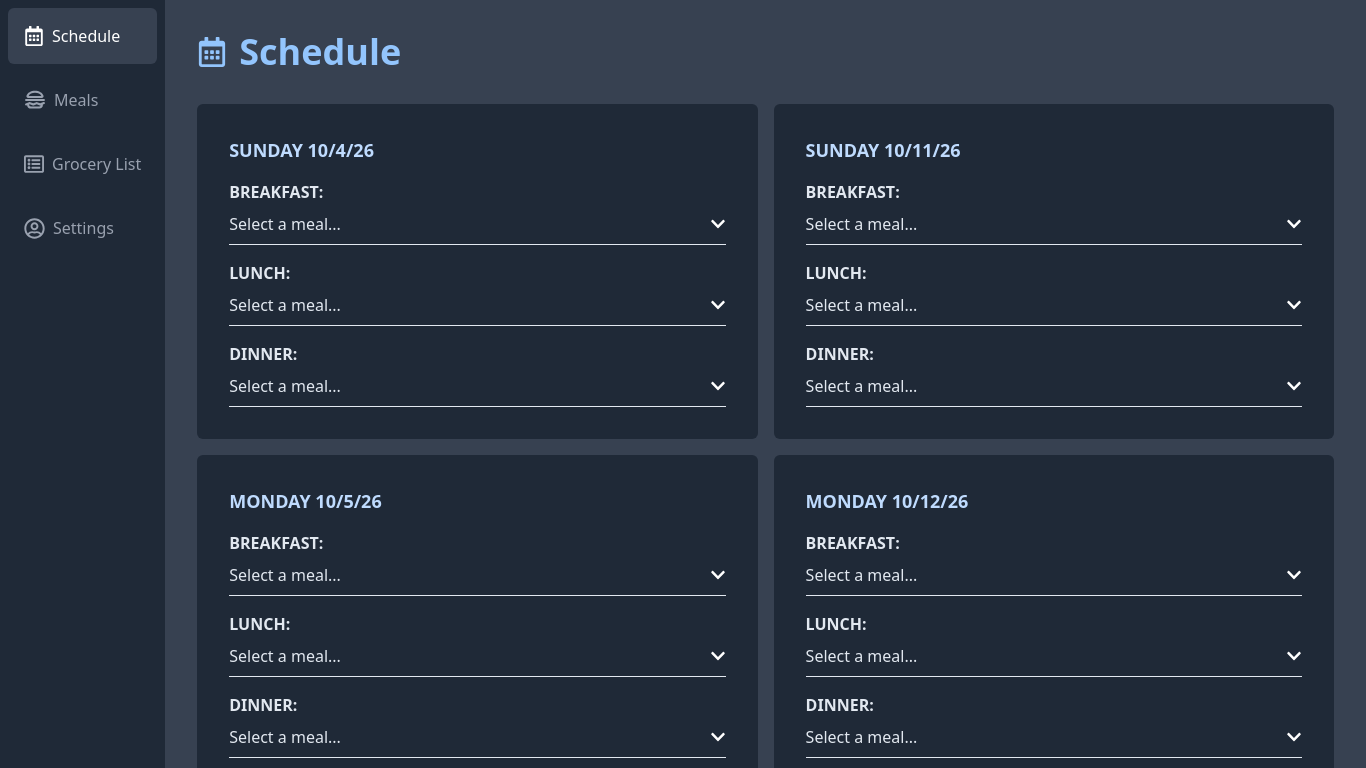
Test: App Component › when user is logged in › Grocery List link renders Grocery List Page
Click the link "Grocery List" at (83, 164), box [24,153,141,175]
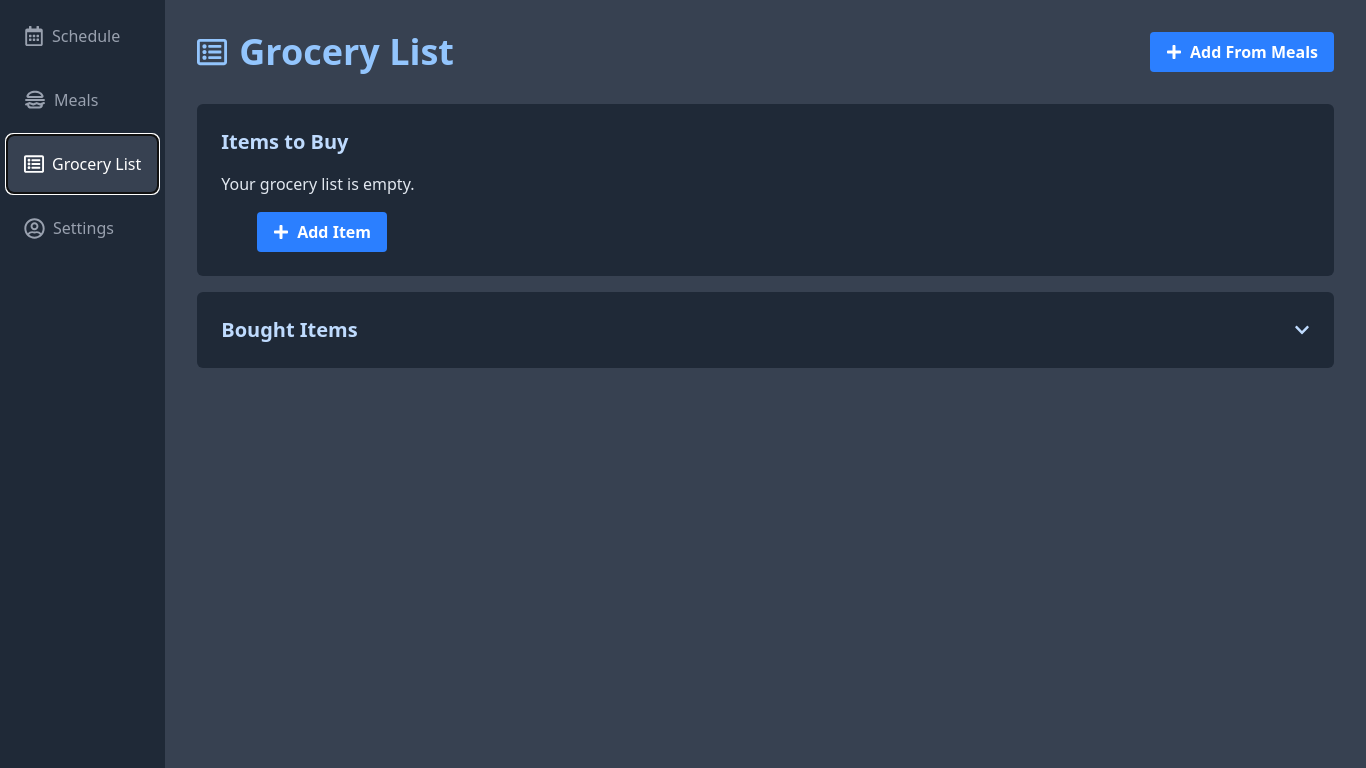
Expected: the heading "Grocery List" is shown, [197,32,454,72]
